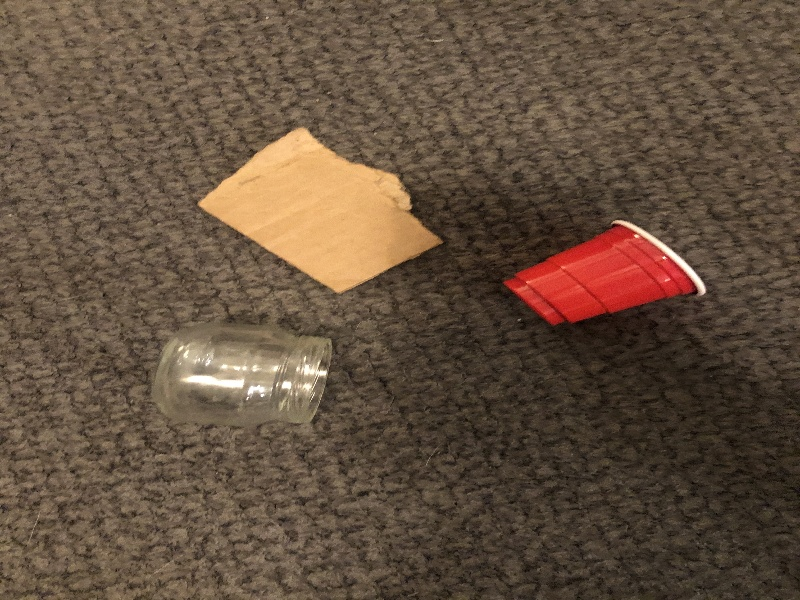cardboard: (187, 122, 458, 294)
glass: (150, 320, 343, 431)
plastic: (496, 217, 715, 332)
